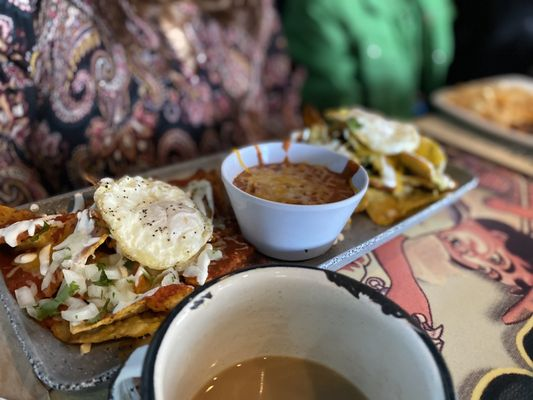sushi: (138, 265, 457, 400), (220, 140, 369, 263)
